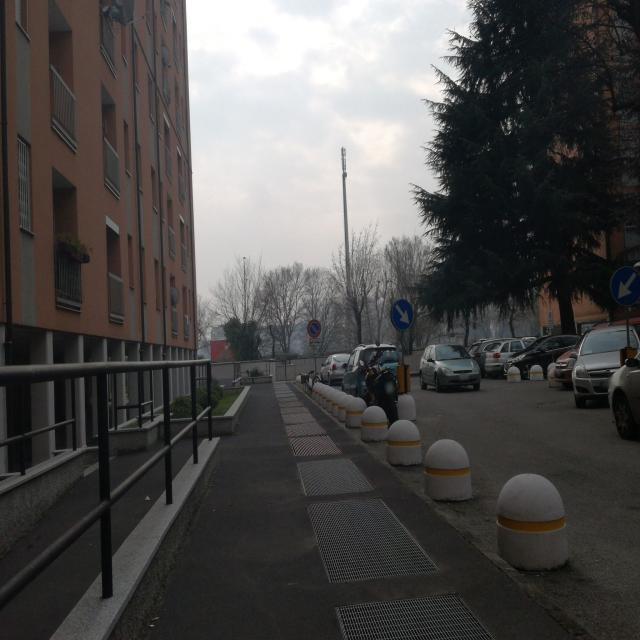forb_stopping: (307, 320, 321, 339)
